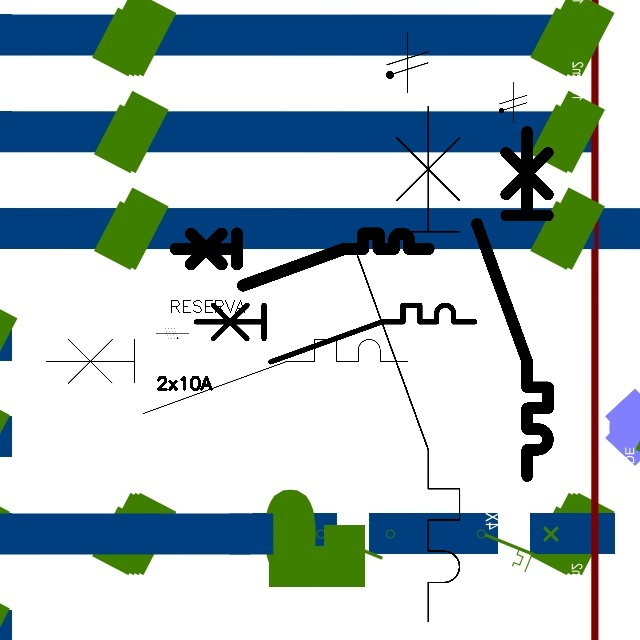interruptor_termomagnetico: (340, 93, 473, 635), (37, 330, 417, 423), (468, 123, 557, 485), (189, 298, 482, 369), (169, 227, 435, 292)
